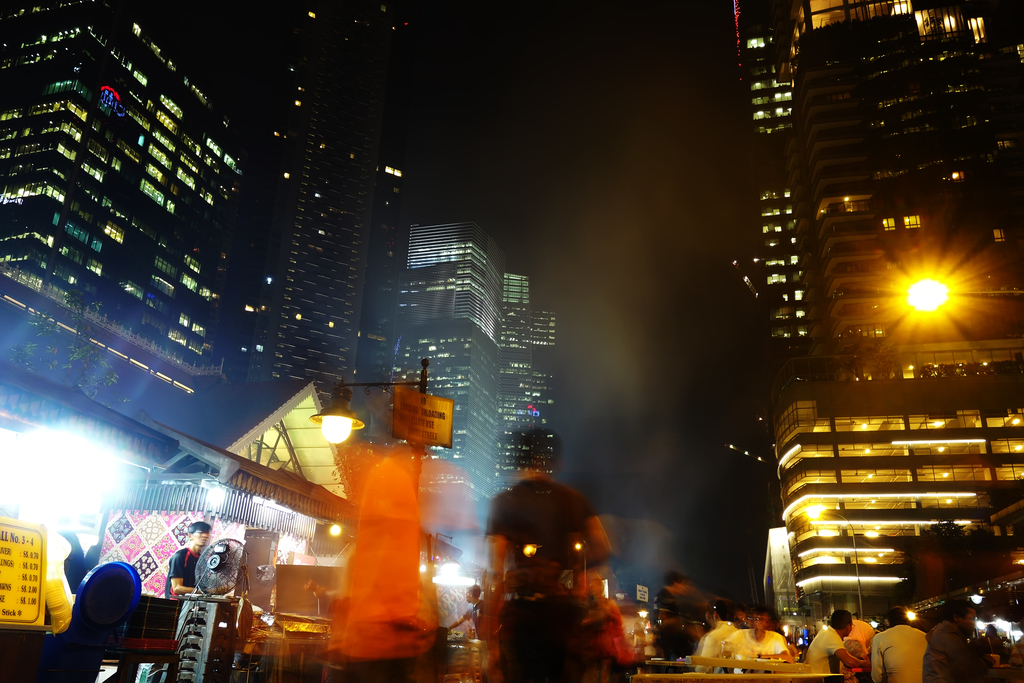Person: (162, 431, 1024, 683)
